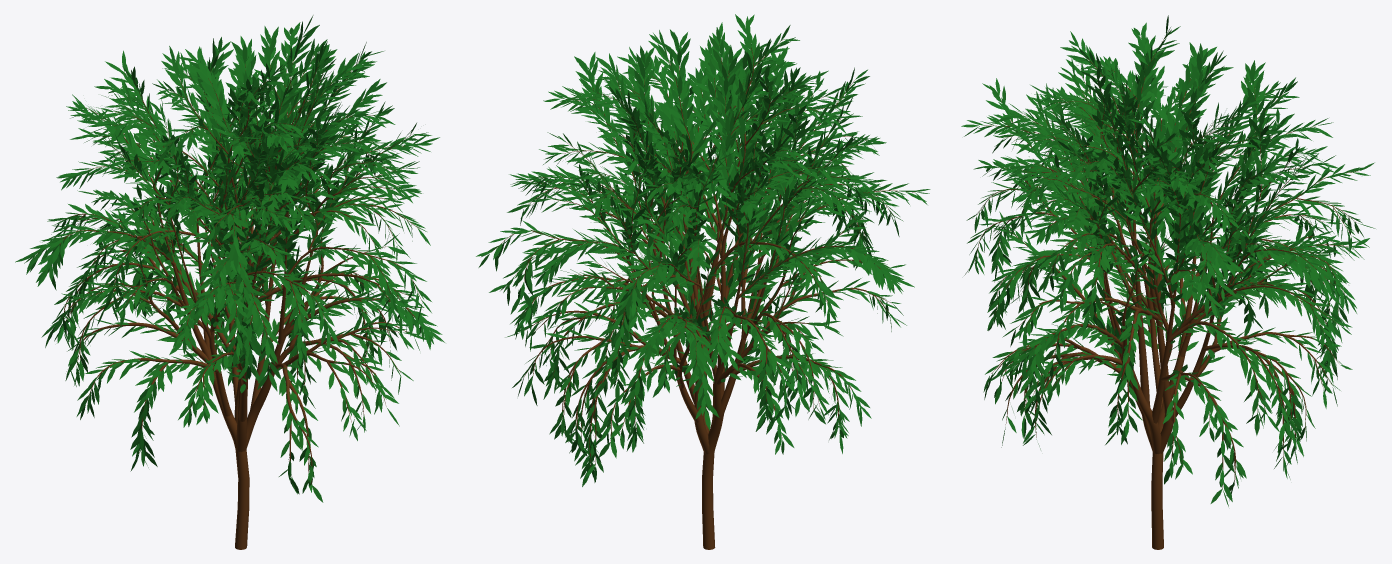
Rendered from Tree_08.fbx.
3 views of the same model, side by side, from view 1: azimuth 30°, elevation 25°; view 2: azimuth 150°, elevation 25°; view 3: azimuth 270°, elevation 25° (orthographic). The views are drawn at different scales.
Parts seen in each view (by area): view 1: leaves, tree; view 2: leaves, tree; view 3: leaves, tree.
Boxes of the visible parts, x1,y1,x2,y2 form: leaves: (15,15,444,502); tree: (59,36,421,549); leaves: (476,14,930,486); tree: (491,40,914,549); leaves: (961,15,1375,506); tree: (974,36,1357,549).
Size of the model in its own units: 752 by 931 by 701.
